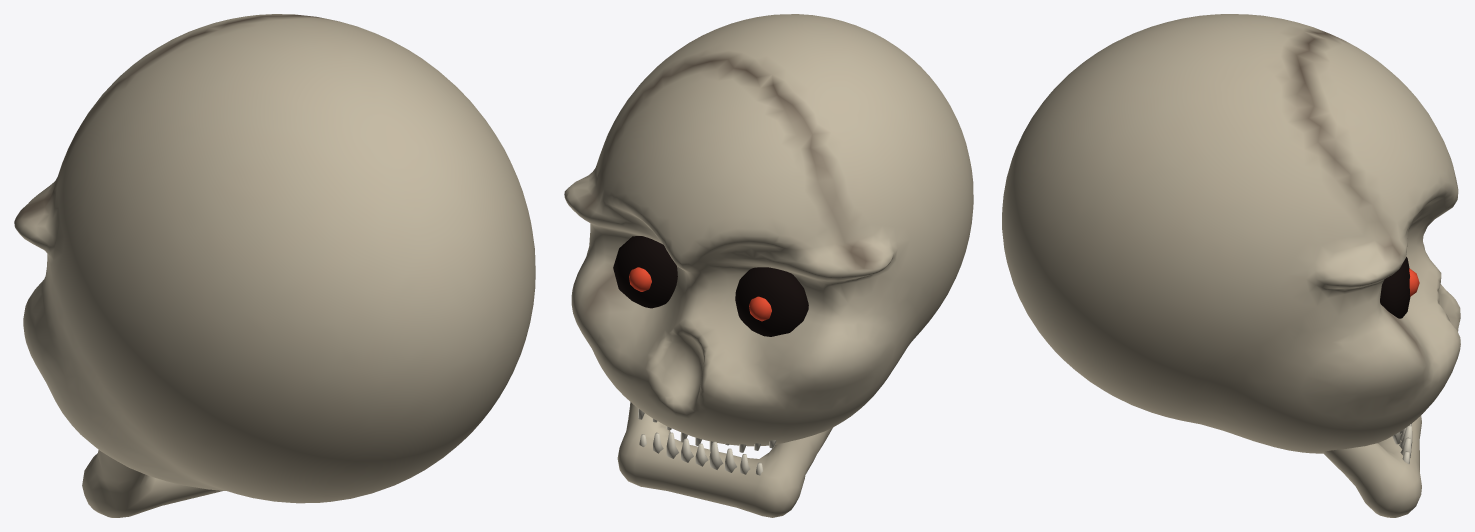
Rendered from skeletron_mask.glb.
The picture shows the model from 3 angles, left to right: view 1: azimuth 30°, elevation 25°; view 2: azimuth 150°, elevation 25°; view 3: azimuth 270°, elevation 25°; orthographic projection. The views are drawn at different scales.
Parts seen in each view (by area): view 1: skeletron_mask_v0; view 2: skeletron_mask_v0; view 3: skeletron_mask_v0.
Boxes of the visible parts, x1,y1,x2,y2 form: skeletron_mask_v0: (14,14,535,517); skeletron_mask_v0: (564,14,973,517); skeletron_mask_v0: (1002,14,1460,517).
Size of the model in its own units: 0.2994 by 0.3675 by 0.34.
